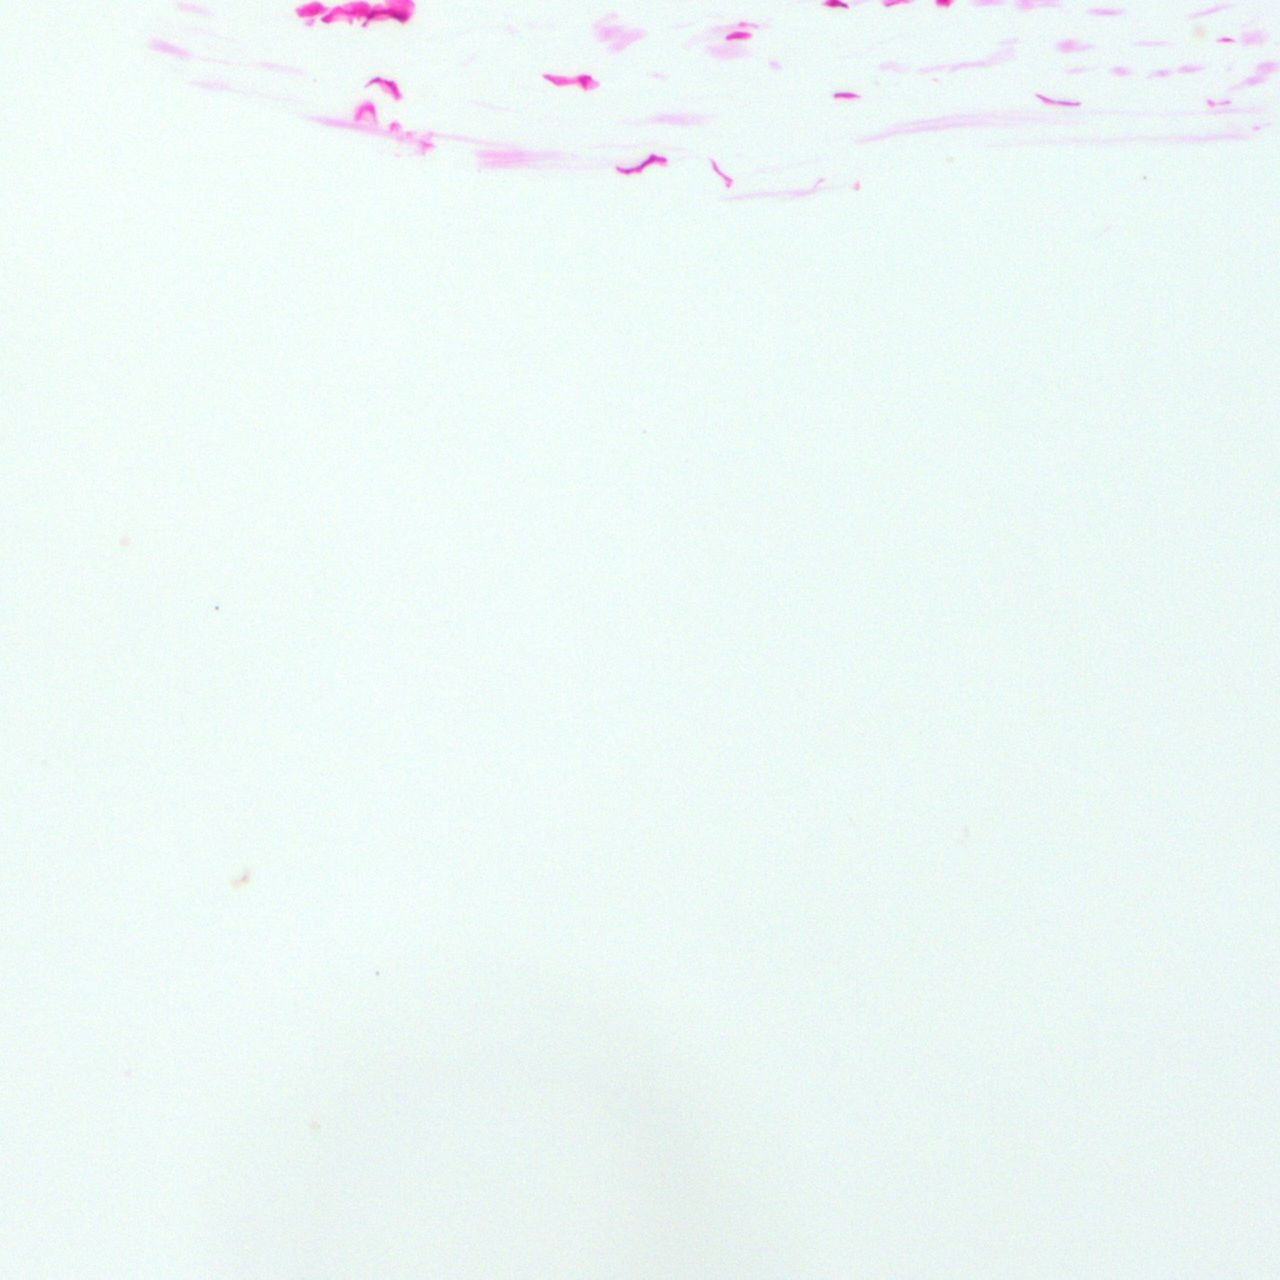dust: (213, 602, 219, 611)
nucleus-FG: (615, 149, 668, 178), (360, 8, 409, 26), (1035, 95, 1081, 107), (384, 77, 403, 100), (366, 74, 381, 87), (833, 91, 858, 98), (578, 79, 588, 91), (1219, 38, 1235, 43), (320, 16, 333, 23), (579, 73, 591, 79), (727, 35, 745, 39)
